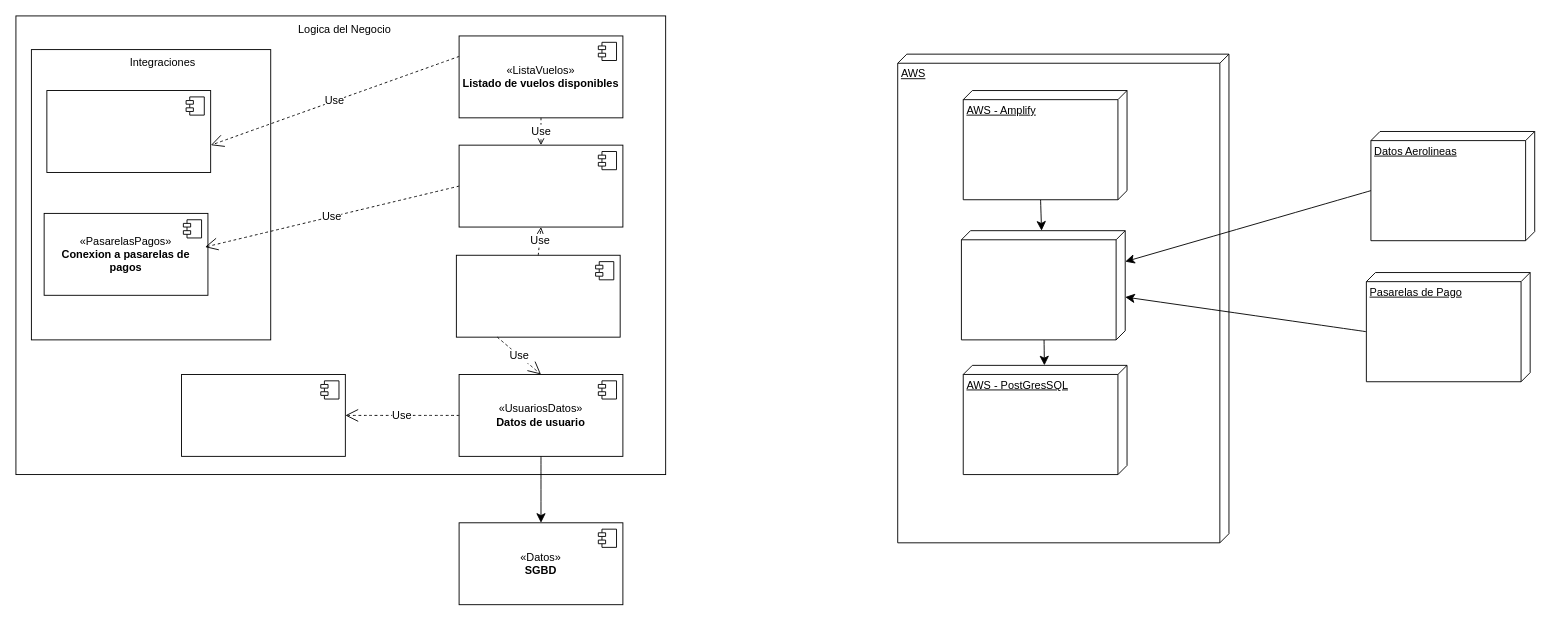
This 1551x621 diagram has some shape labels left out. Here are the shapes that lost their labels. From the top down, the centre of each, then its label:
the point at 128,131: «Aerolineas» Vuelos de las aerolineas
the point at 540,185: «RalizarReserva» Creacion de una reserva
the point at 537,295: «ListaDeMisReservas» Listado de las reserva que he realizado
the point at 1043,285: AWS - Lamda
the point at 263,415: «Autenticacion» Login
